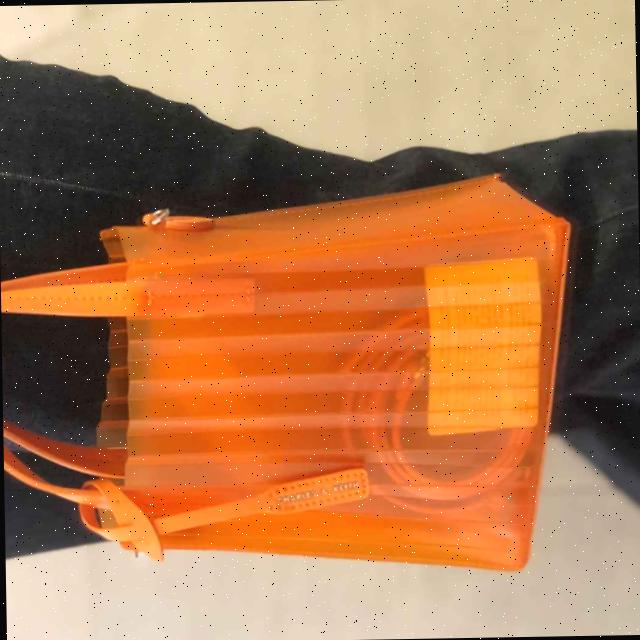handbag: (69, 160, 614, 588)
